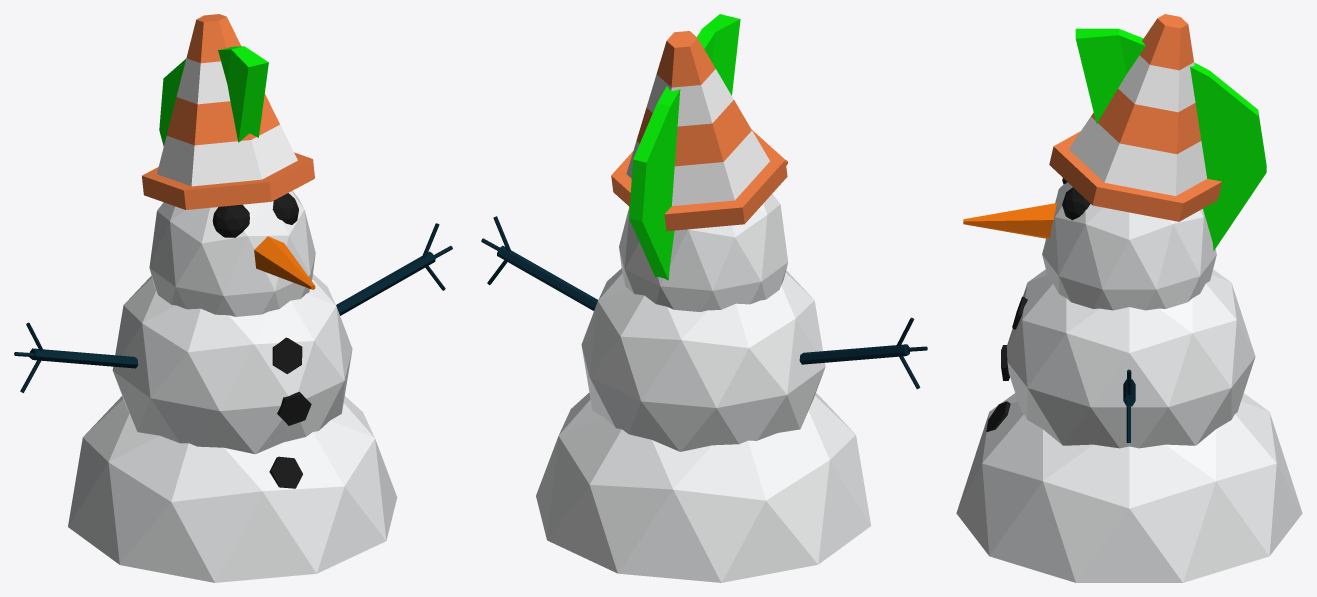
The model's file is snowmans.glb.
The picture shows the model from 3 angles, left to right: view 1: azimuth 30°, elevation 25°; view 2: azimuth 150°, elevation 25°; view 3: azimuth 270°, elevation 25°; orthographic projection. The views are drawn at different scales.
Visible parts, largest first — view 1: Mesh_Snowman, Mesh_Snowman_ConeHat, Mesh_Snowman_Punk; view 2: Mesh_Snowman, Mesh_Snowman_ConeHat, Mesh_Snowman_Punk; view 3: Mesh_Snowman, Mesh_Snowman_ConeHat, Mesh_Snowman_Punk.
Part boxes in pixels (x1,y1,x2,y2): Mesh_Snowman: [14, 191, 452, 582]; Mesh_Snowman_ConeHat: [142, 14, 314, 209]; Mesh_Snowman_Punk: [159, 46, 268, 146]; Mesh_Snowman: [481, 159, 927, 582]; Mesh_Snowman_ConeHat: [611, 31, 787, 231]; Mesh_Snowman_Punk: [629, 14, 740, 280]; Mesh_Snowman: [956, 178, 1302, 582]; Mesh_Snowman_ConeHat: [1049, 14, 1221, 221]; Mesh_Snowman_Punk: [1075, 28, 1266, 250].
Bounding box in the file's own units: 3 × 3.16 × 2.
Materials: 1 (1 with a texture image).
